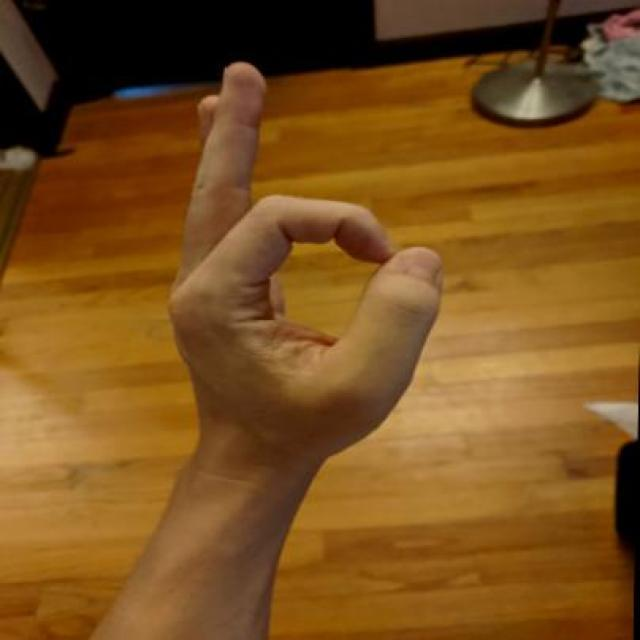F: (153, 51, 453, 505)
